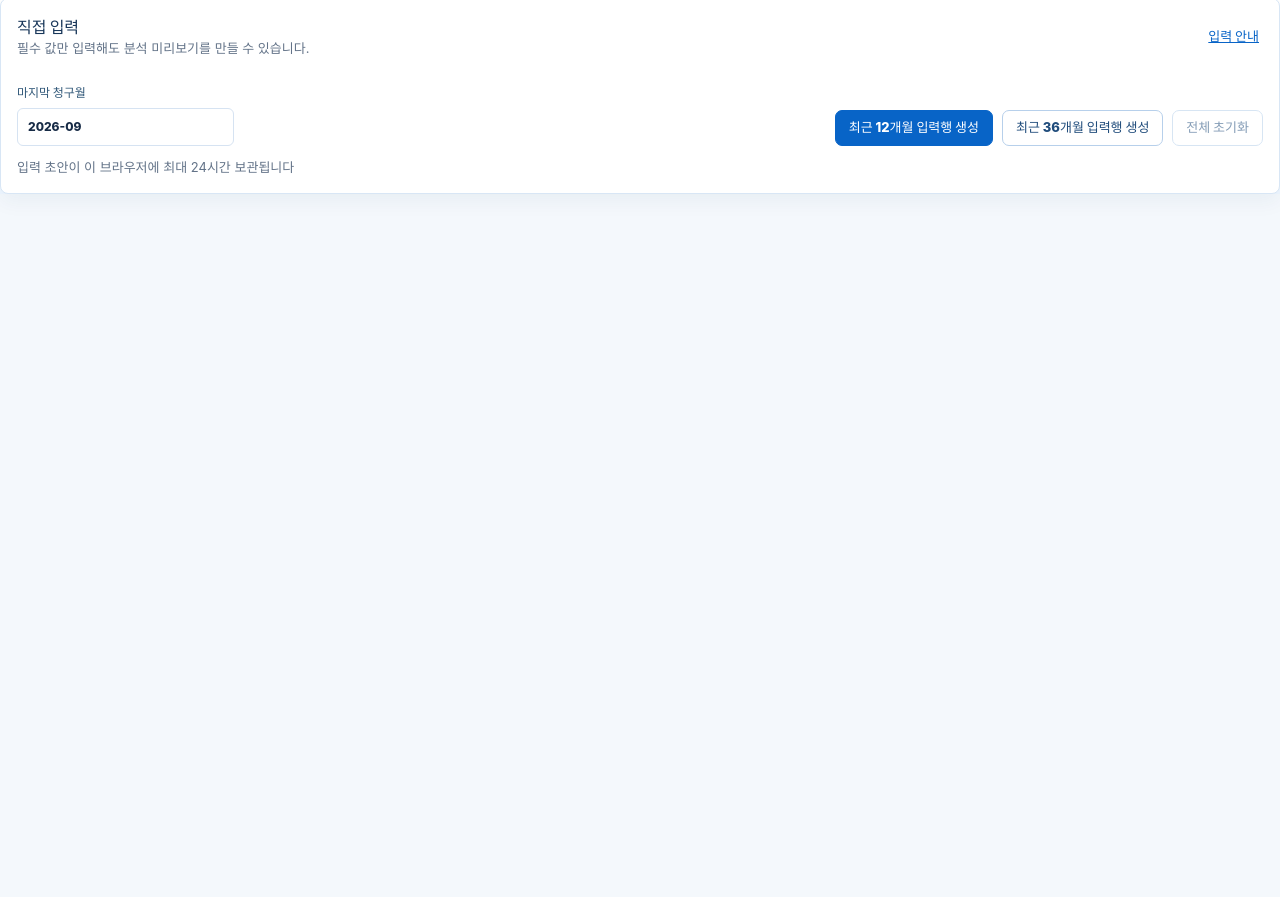
Test: ManualBillInput › connects invalid cells to their visible issue text
Click the button "최근 12개월 입력행 생성".
click(914, 128)  # box [835,110,993,146]
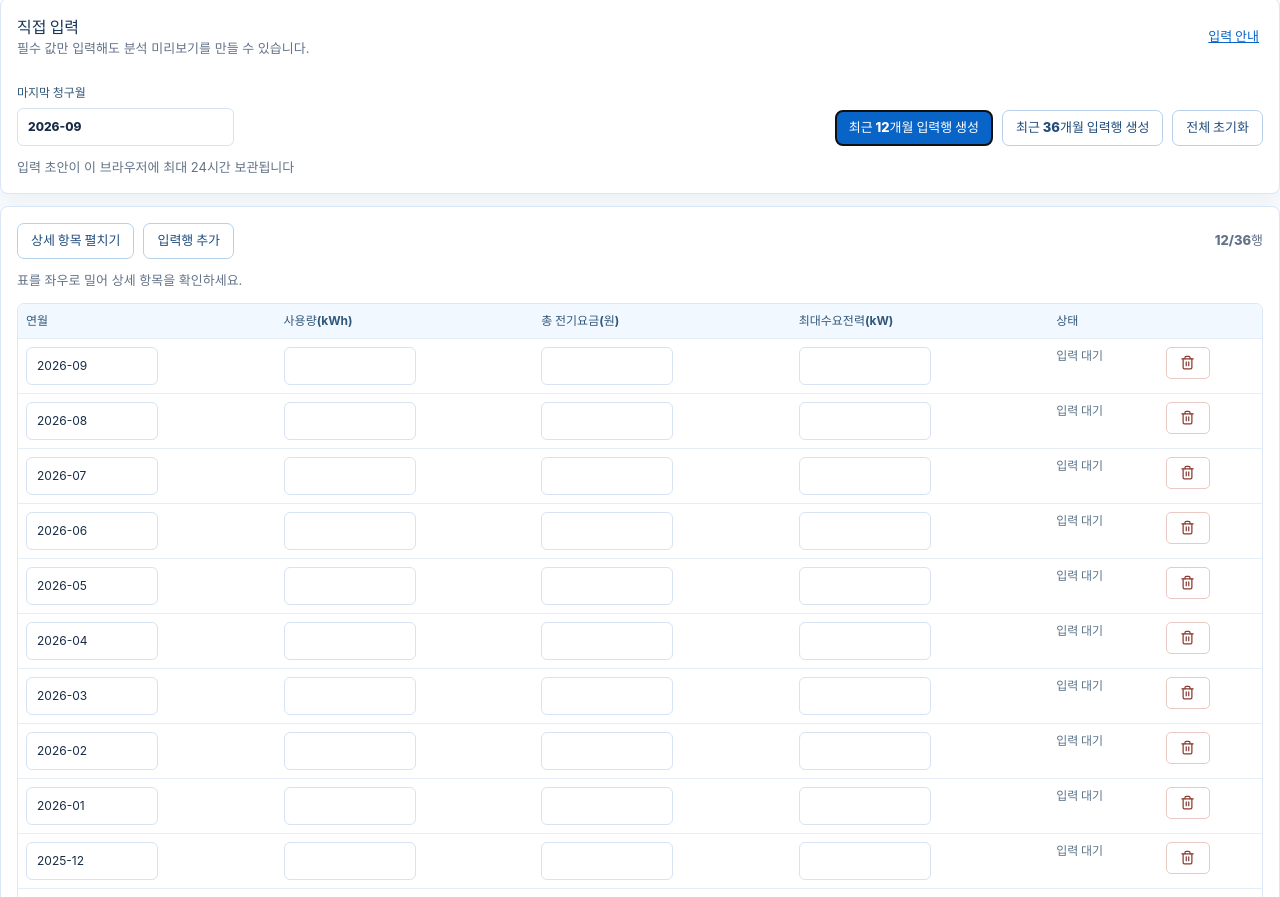
Click the button "입력행 추가".
click(189, 241)  # box [143,223,234,259]
(page scrolled)
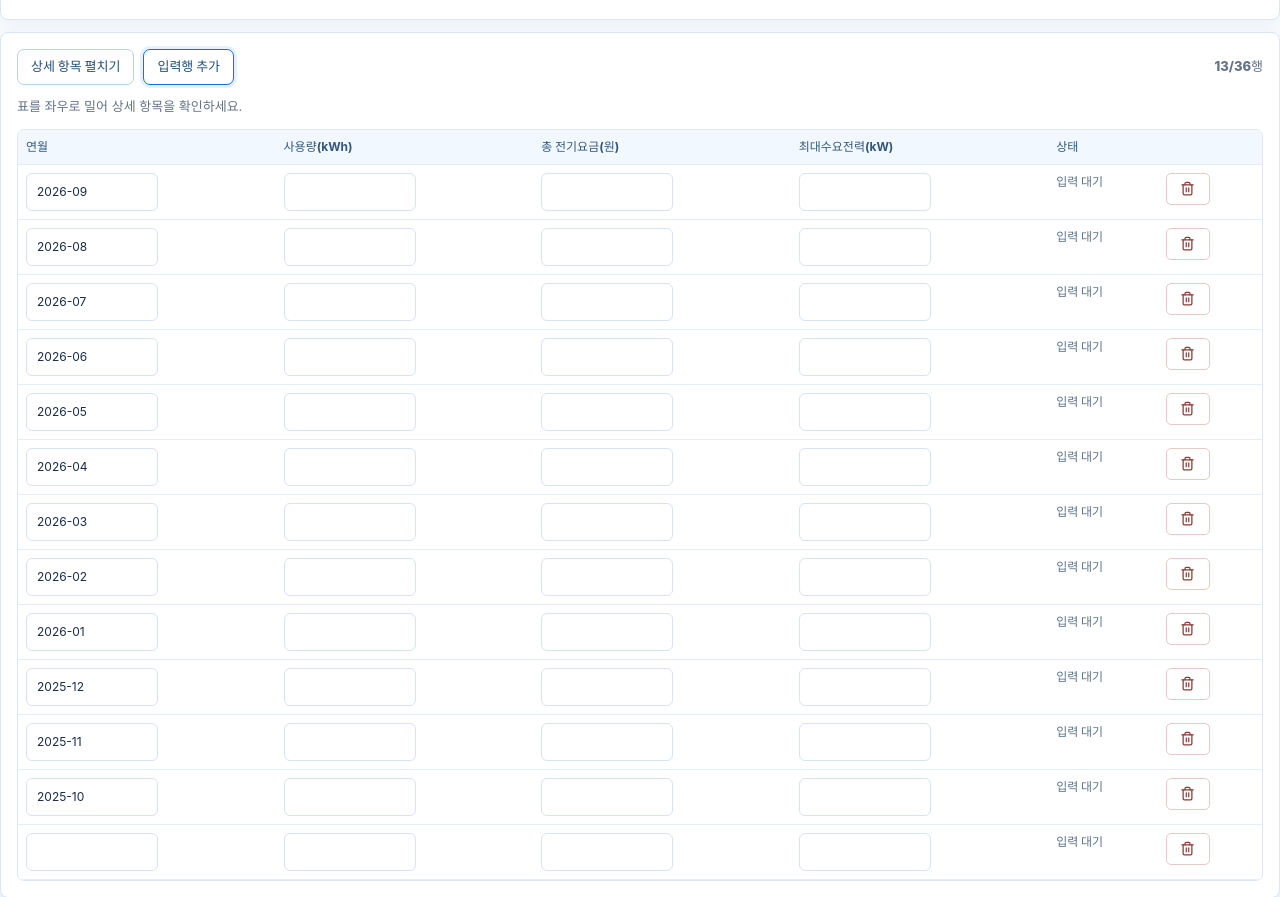
Type "2026-07" into the field named "연월".
click(92, 852); type("2026-07")  # box [26,832,158,870]
(page scrolled)
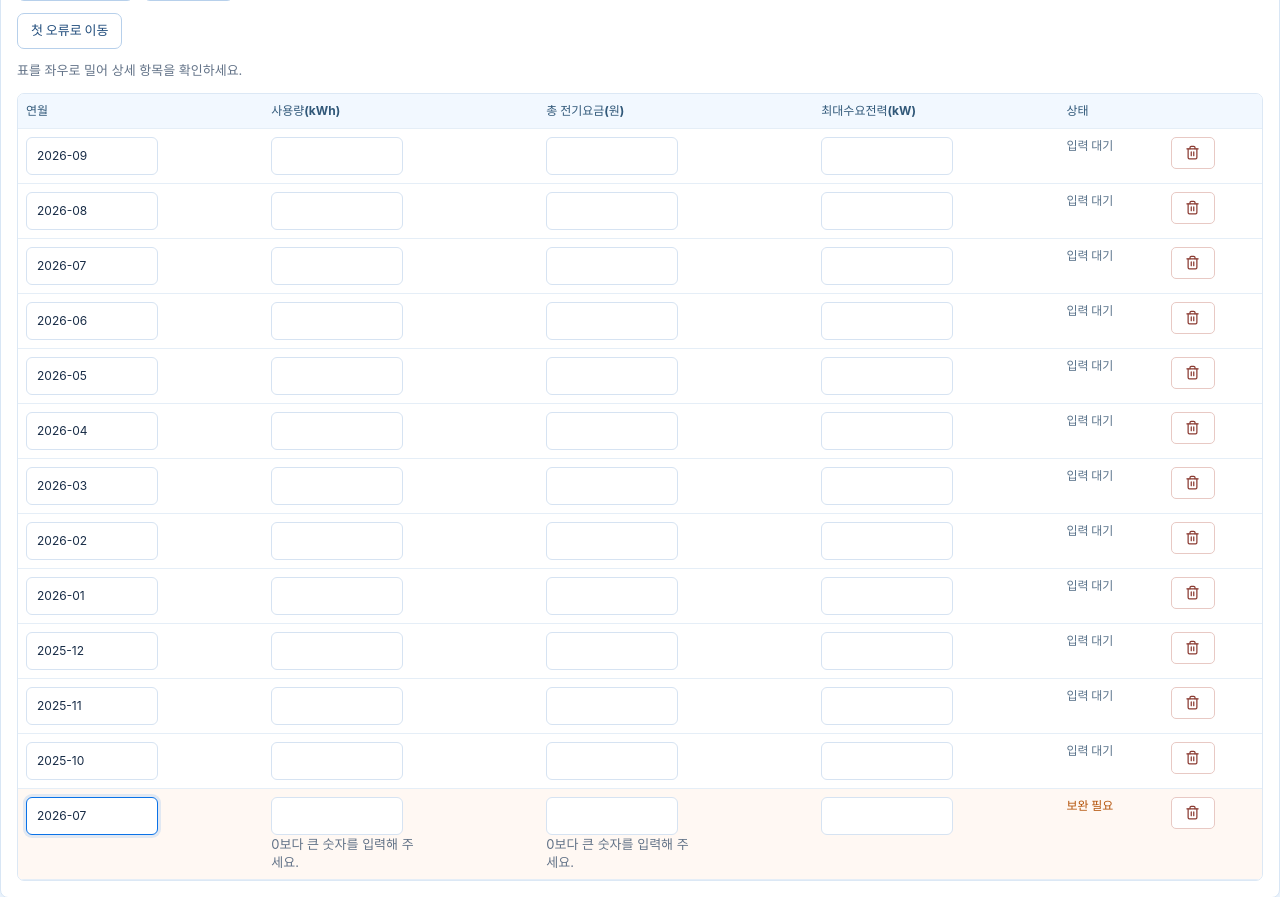
Check: the 1st text "0보다 큰 숫자를 입력해 주세요." is shown, box [271,834,421,871]
